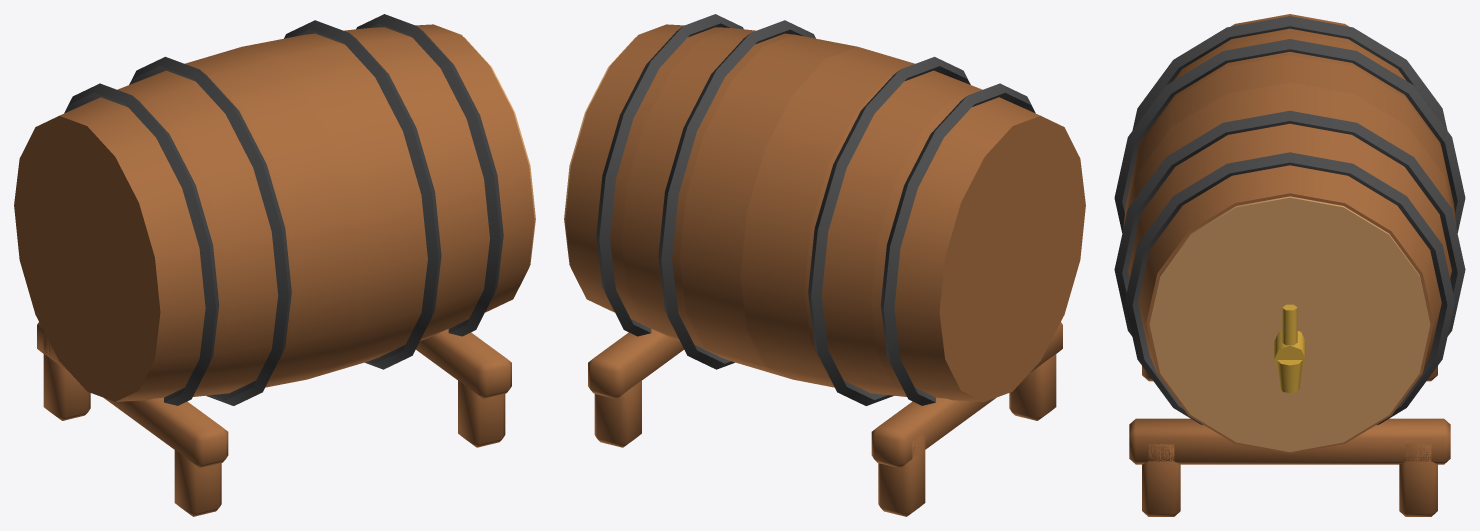
File: barril_chope.glb
3 renders of one model, left to right at view 1: azimuth 30°, elevation 25°; view 2: azimuth 150°, elevation 25°; view 3: azimuth 270°, elevation 25°, orthographic.
Parts seen in each view (by area): view 1: Barril_Chope; view 2: Barril_Chope; view 3: Barril_Chope.
Boxes of the visible parts, box(x1,y1,x2,y2) form: Barril_Chope: box(14, 14, 535, 516); Barril_Chope: box(564, 14, 1085, 516); Barril_Chope: box(1114, 14, 1465, 516).
Size of the model in its own units: 0.75 by 0.633 by 0.5461.
